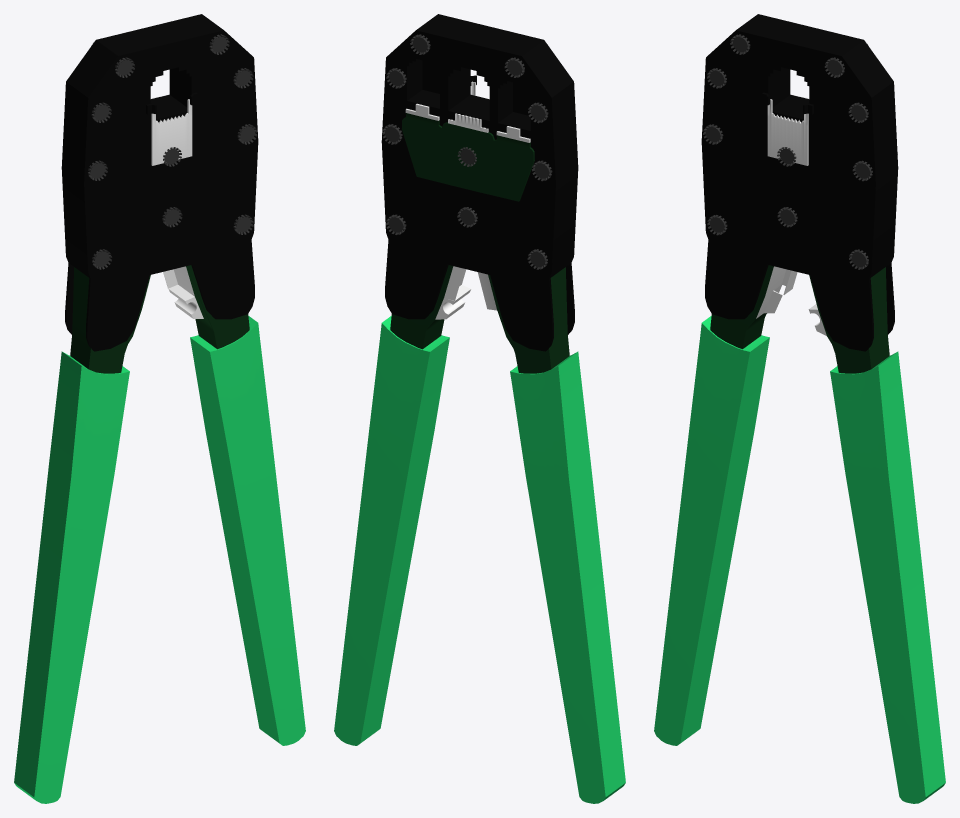
The model's file is crimping tolls remestered.fbx.
The picture shows the model from 3 angles, left to right: view 1: azimuth 30°, elevation 25°; view 2: azimuth 150°, elevation 25°; view 3: azimuth 330°, elevation 25°; orthographic projection.
Parts seen in each view (by area): view 1: Cube.003, Cube, Cube.002, Cube.006, Cube.004; view 2: Cube.003, Cube, Cube.001, Cube.002, Cube.004, Cube.005; view 3: Cube.003, Cube, Cube.002, Cube.006, Cube.004.
Boxes of the visible parts, box(x1,y1,x2,y2) form: Cube.003: box(14, 316, 305, 803); Cube: box(61, 14, 258, 351); Cube.002: box(70, 265, 249, 373); Cube.006: box(151, 99, 192, 165); Cube.004: box(143, 266, 203, 318); Cube.003: box(334, 316, 625, 803); Cube: box(381, 14, 578, 351); Cube.001: box(402, 113, 534, 201); Cube.002: box(390, 265, 569, 373); Cube.004: box(435, 266, 496, 319); Cube.005: box(405, 103, 530, 142); Cube.003: box(654, 316, 945, 803); Cube: box(701, 14, 898, 351); Cube.002: box(710, 265, 889, 373); Cube.006: box(767, 99, 808, 165); Cube.004: box(756, 266, 826, 335).
Bounding box in the file's own units: 513 × 1319 × 91.4.
